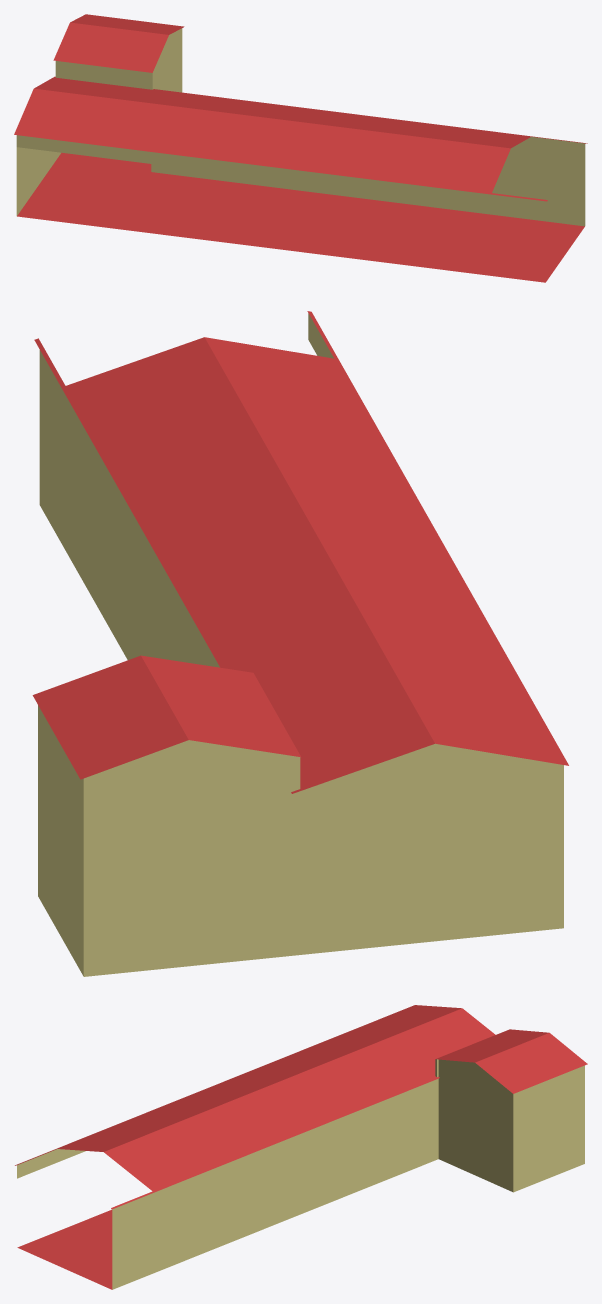
3 renders of one model, top to bottom at view 1: azimuth 30°, elevation 25°; view 2: azimuth 150°, elevation 25°; view 3: azimuth 270°, elevation 25°, orthographic. The views are drawn at different scales.
Bounding box in the file's own units: 54.15 × 64.24 × 14.09.
